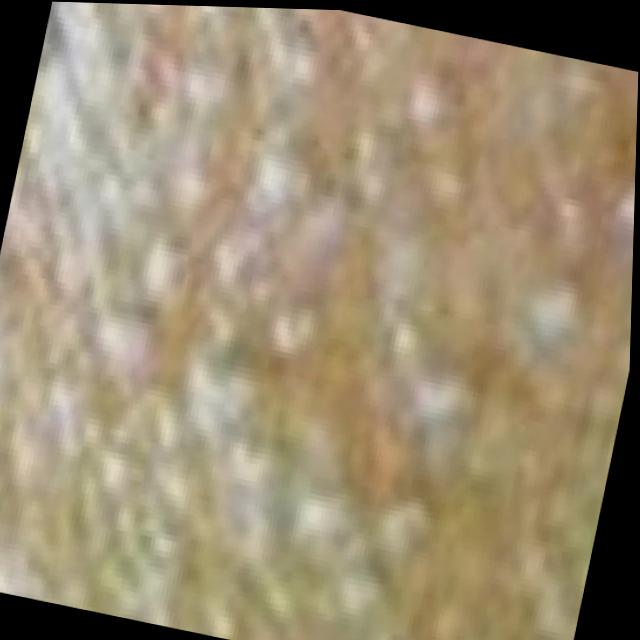whitehead: (0, 6, 637, 640)
